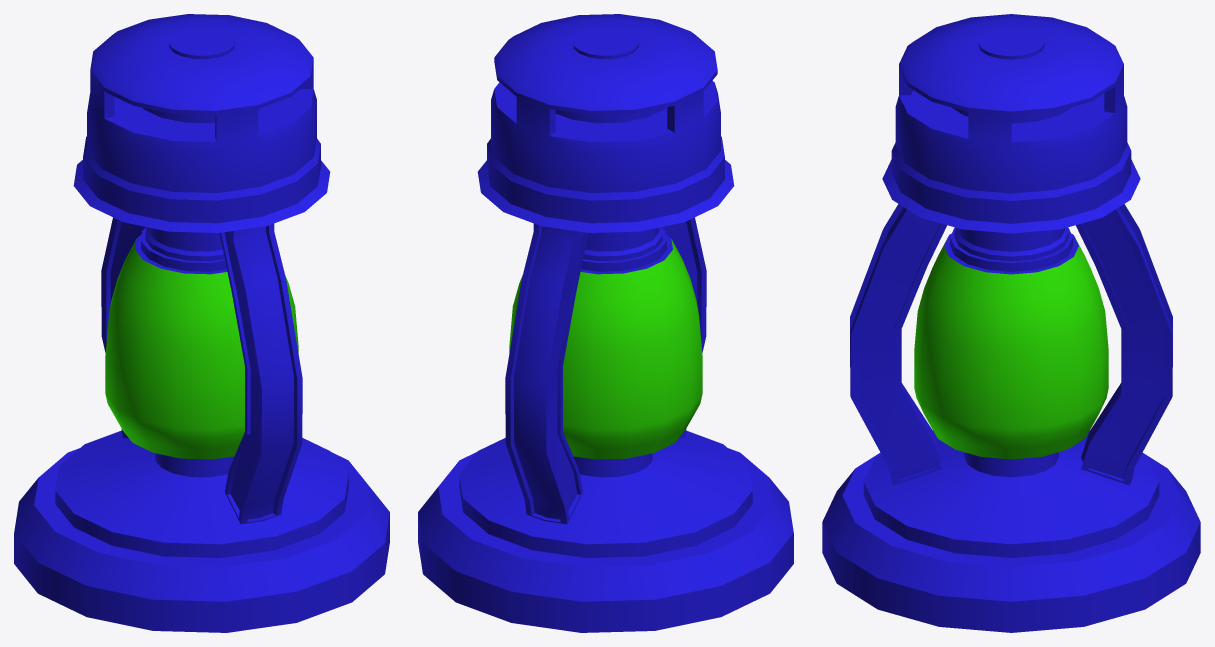
The model's file is lamp.fbx.
3 renders of one model, left to right at view 1: azimuth 30°, elevation 25°; view 2: azimuth 150°, elevation 25°; view 3: azimuth 270°, elevation 25°, orthographic.
Visible parts, largest first — view 1: Cylinder; view 2: Cylinder; view 3: Cylinder.
Part boxes in pixels (<box>): Cylinder: <box>14,14,389,632</box>; Cylinder: <box>418,14,793,632</box>; Cylinder: <box>822,14,1200,632</box>.
Size of the model in its own units: 1.27 by 1.89 by 1.27.
